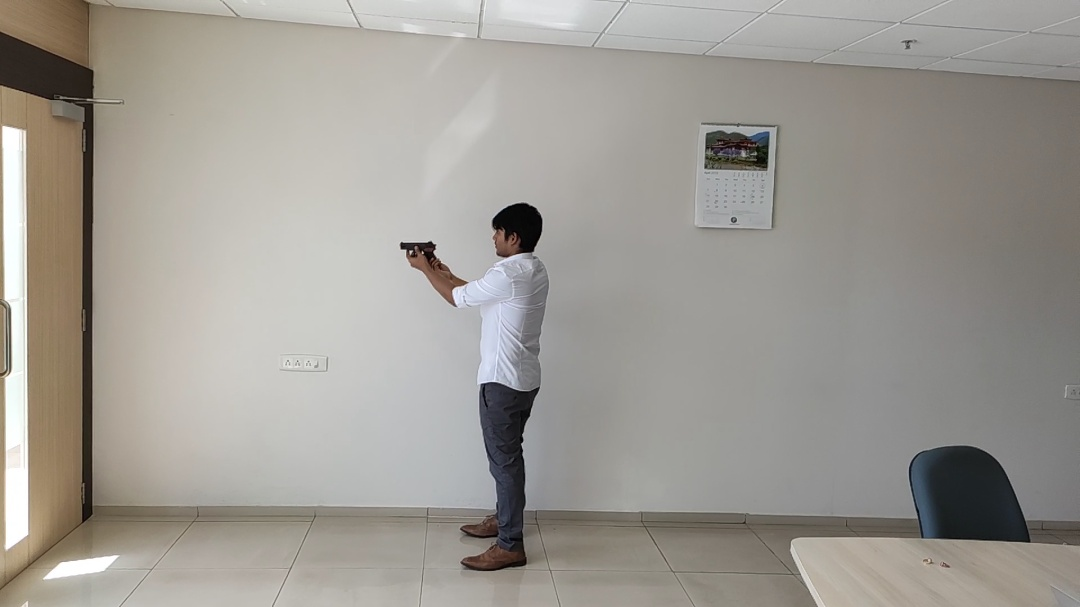gun: (301, 88, 608, 601)
